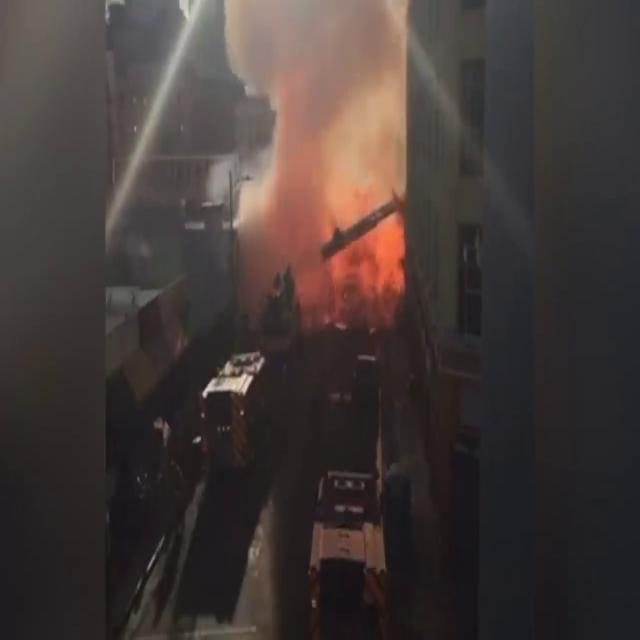Fire: (324, 188, 407, 322)
Smoke: (224, 1, 418, 316)
